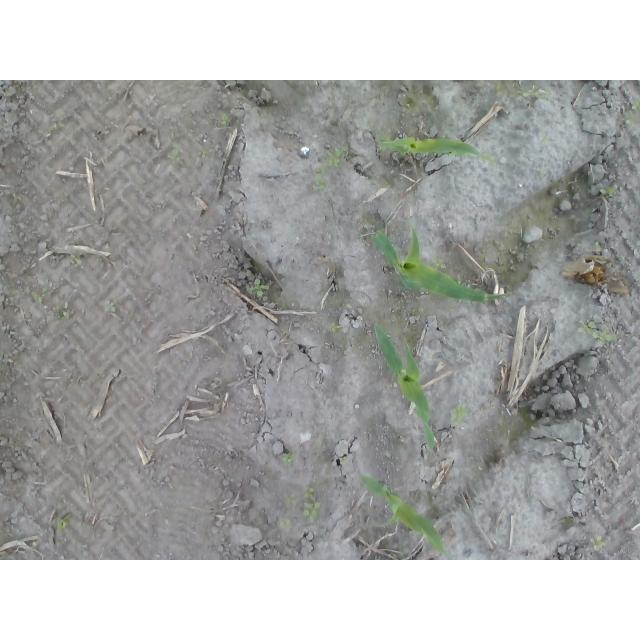Maize: (370, 228, 511, 302), (371, 321, 438, 452), (364, 477, 448, 556), (378, 135, 493, 166)
Weeds: (576, 320, 616, 344), (303, 483, 321, 521), (450, 405, 471, 427), (325, 147, 344, 169), (312, 165, 328, 191), (248, 278, 268, 298), (521, 88, 548, 101), (590, 537, 606, 552), (489, 80, 503, 96), (329, 320, 344, 333), (598, 186, 614, 196), (284, 494, 297, 506), (221, 114, 232, 126), (30, 292, 42, 303), (278, 518, 290, 528), (57, 518, 67, 530), (281, 452, 293, 462), (70, 256, 82, 265), (57, 312, 67, 321), (632, 100, 640, 109)
